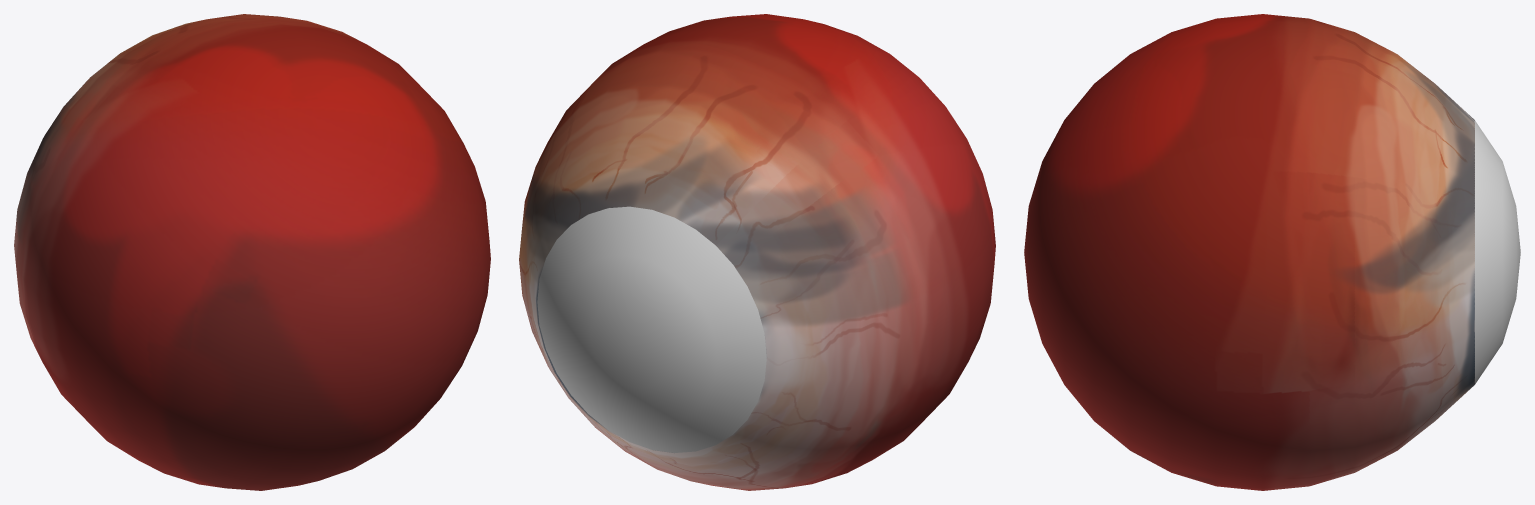
The model's file is eyeball.fbx.
3 views of the same model, side by side, from view 1: azimuth 30°, elevation 25°; view 2: azimuth 150°, elevation 25°; view 3: azimuth 270°, elevation 25° (orthographic).
Parts seen in each view (by area): view 1: eyeball; view 2: eyeball, iris_top; view 3: eyeball, iris_top.
Boxes of the visible parts, bbox=[...] form: eyeball: bbox=[14, 14, 490, 490]; eyeball: bbox=[519, 14, 995, 490]; iris_top: bbox=[537, 206, 766, 452]; eyeball: bbox=[1024, 14, 1474, 490]; iris_top: bbox=[1475, 120, 1520, 384].
Size of the model in its own units: 200 by 200 by 208.
